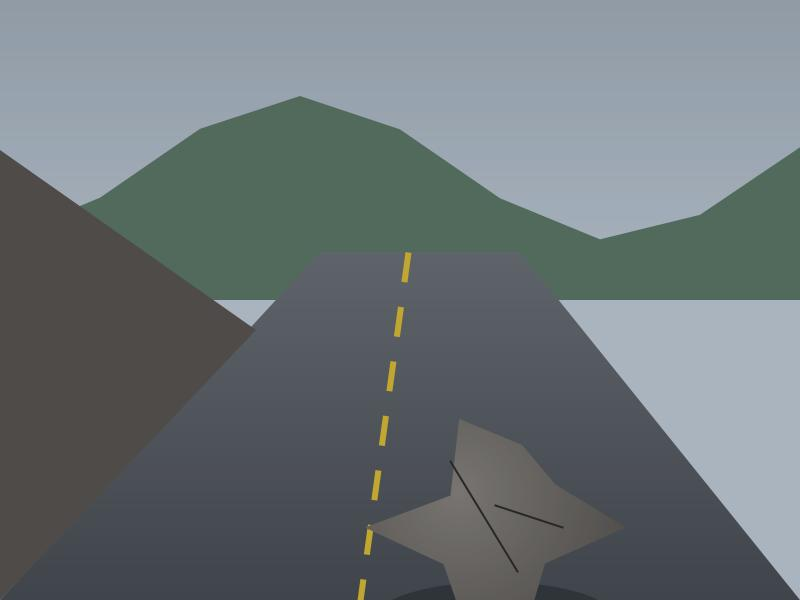ROAD_OBSTACLE: (383, 417, 607, 600)
